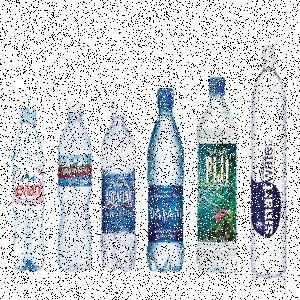Plastic-bottle: (252, 44, 288, 281), (197, 77, 240, 275), (147, 88, 187, 274), (101, 101, 137, 275), (57, 100, 93, 272), (12, 108, 46, 273)
